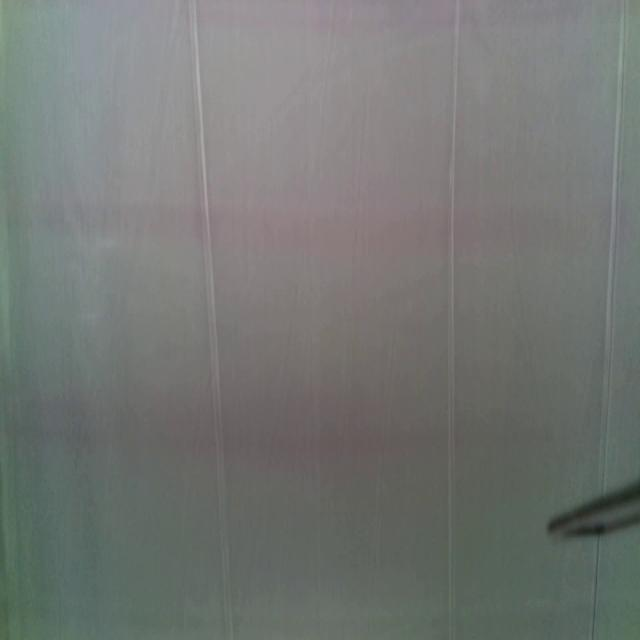color bleeding: (0, 187, 640, 271), (4, 383, 544, 464), (99, 0, 586, 40)
crease: (189, 0, 235, 640), (600, 0, 629, 485), (447, 0, 462, 638), (589, 541, 602, 639)
